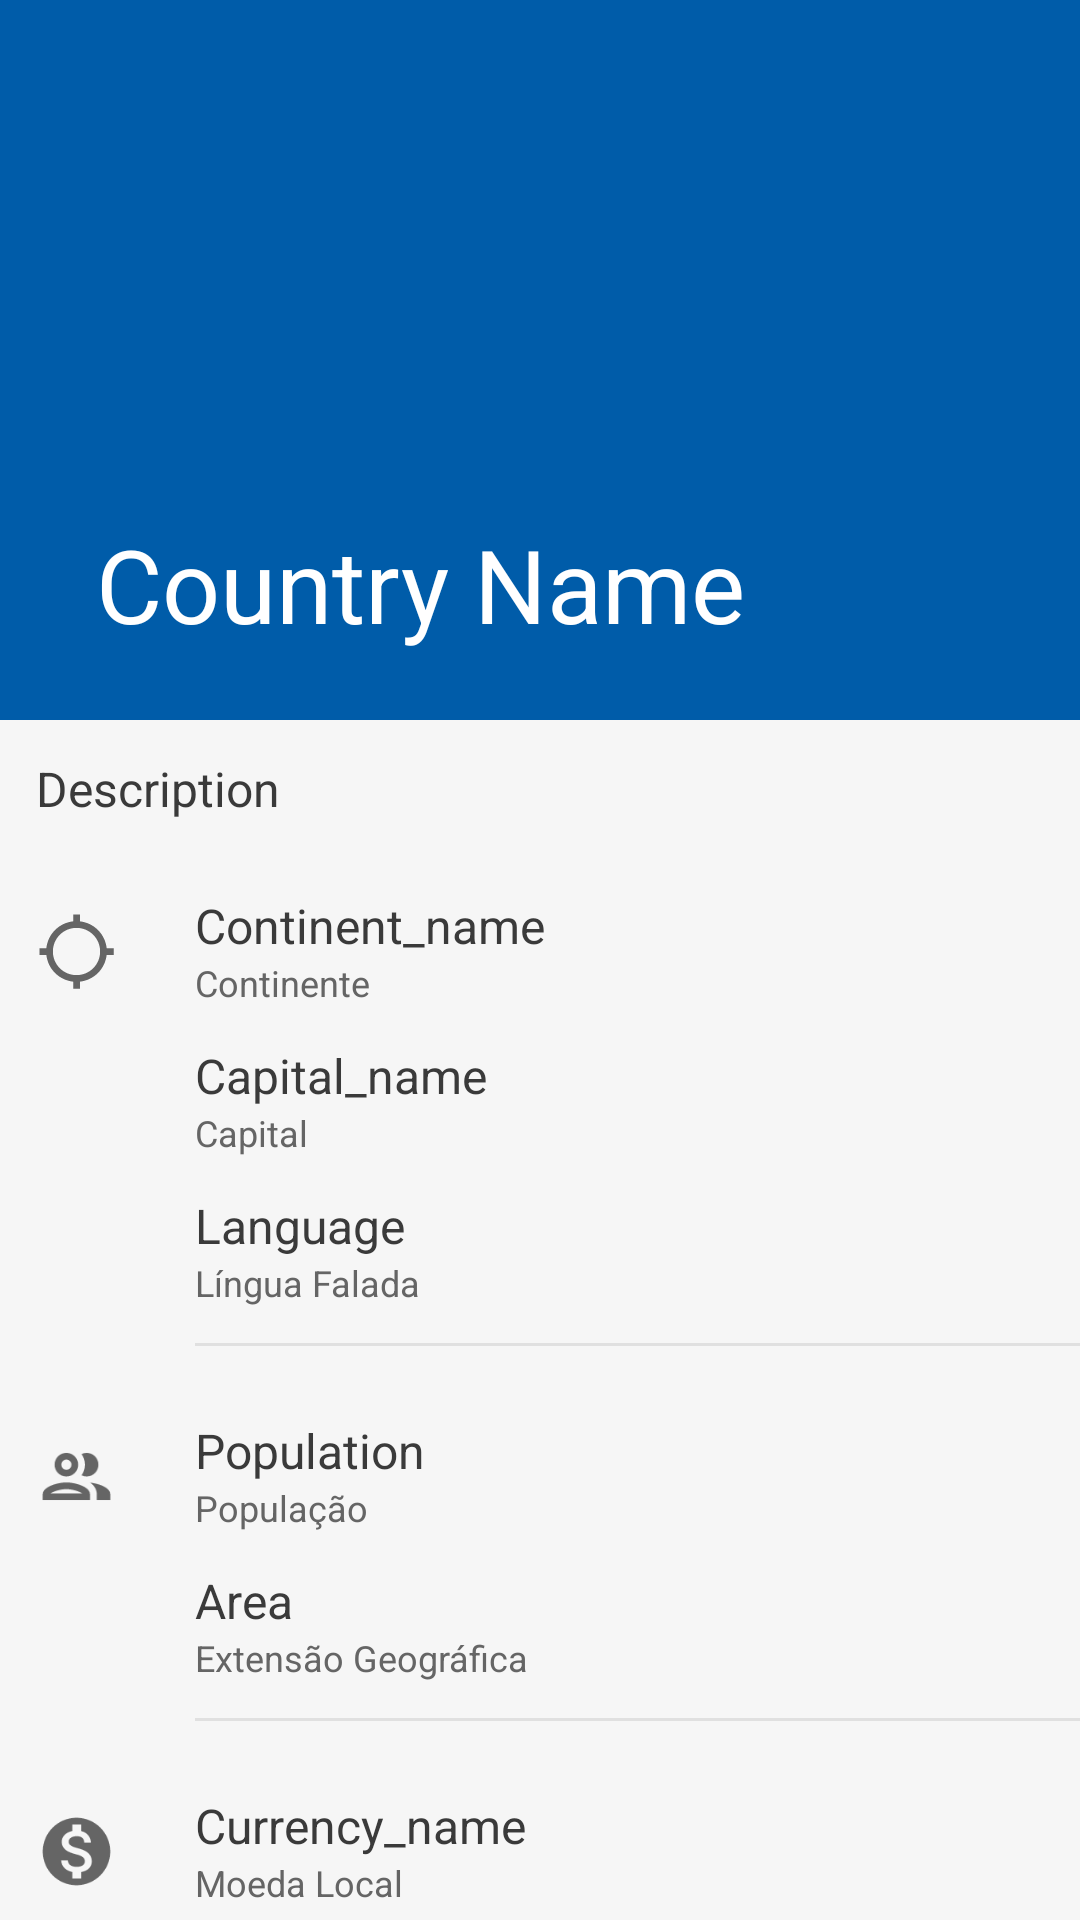

Icon bounding boxes for this 1080 x 1920 phone screenshot, format (x1, y1, x2, y2):
gps not fixed: (39, 914, 114, 989)
monetization on: (42, 1817, 111, 1886)
people: (42, 1453, 111, 1500)
